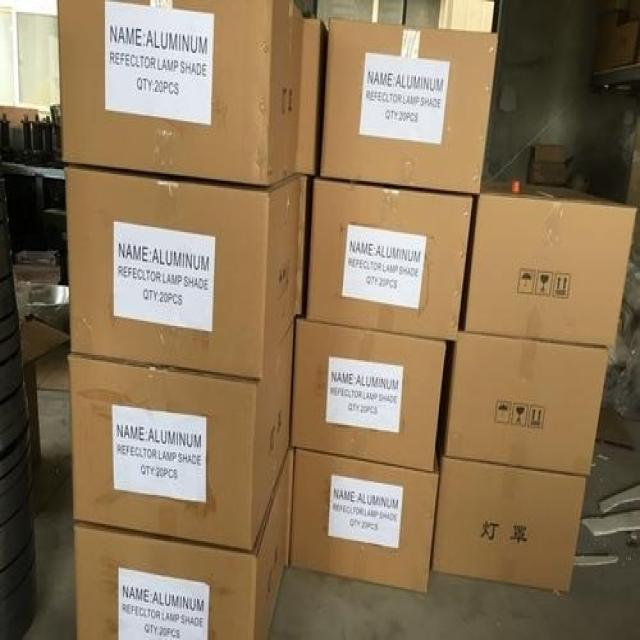Carton: (56, 0, 442, 638), (303, 181, 632, 474), (320, 15, 494, 193), (430, 464, 584, 589)
